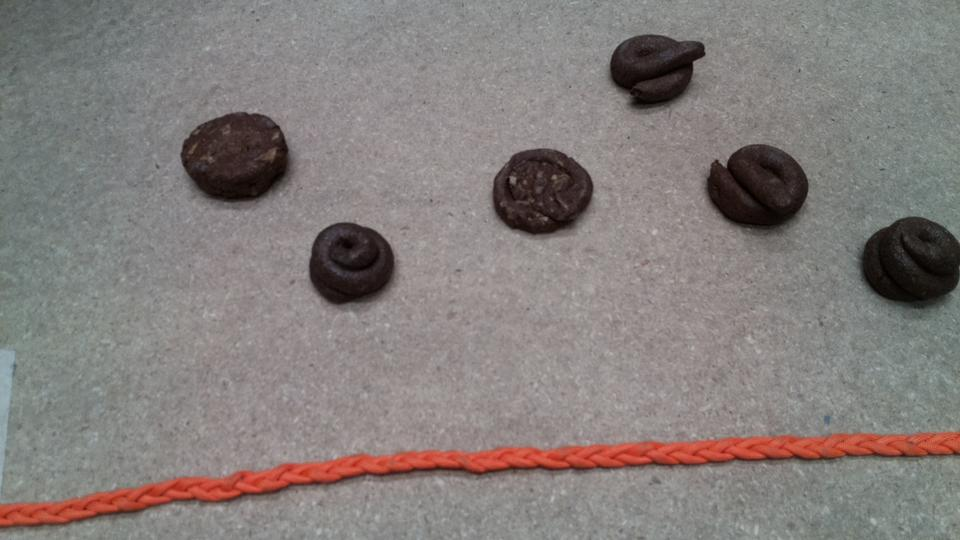poop: (174, 105, 293, 206), (487, 141, 598, 240), (704, 133, 813, 233), (853, 209, 960, 310), (304, 221, 403, 310), (606, 28, 709, 111)
rope: (240, 440, 727, 502), (2, 469, 251, 540), (656, 421, 960, 474)
